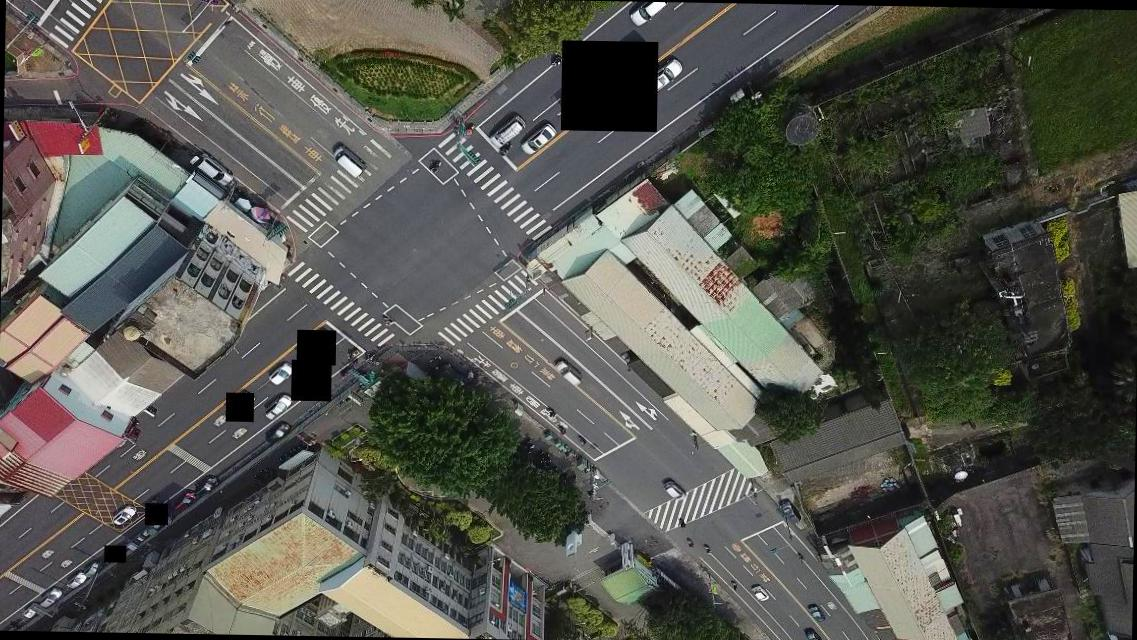vehicle: (190, 148, 236, 188), (644, 57, 685, 97), (568, 44, 606, 81), (488, 112, 529, 146), (520, 122, 556, 156), (628, 1, 672, 27), (333, 144, 364, 178), (554, 358, 584, 386), (264, 394, 290, 420), (114, 504, 140, 526), (270, 361, 292, 386), (263, 422, 289, 443), (196, 474, 219, 496), (778, 501, 800, 524), (664, 480, 688, 501), (39, 588, 63, 608), (173, 492, 196, 512), (809, 602, 826, 626), (66, 570, 88, 588), (751, 584, 772, 600), (84, 560, 100, 576), (24, 604, 39, 620), (802, 627, 822, 639)
